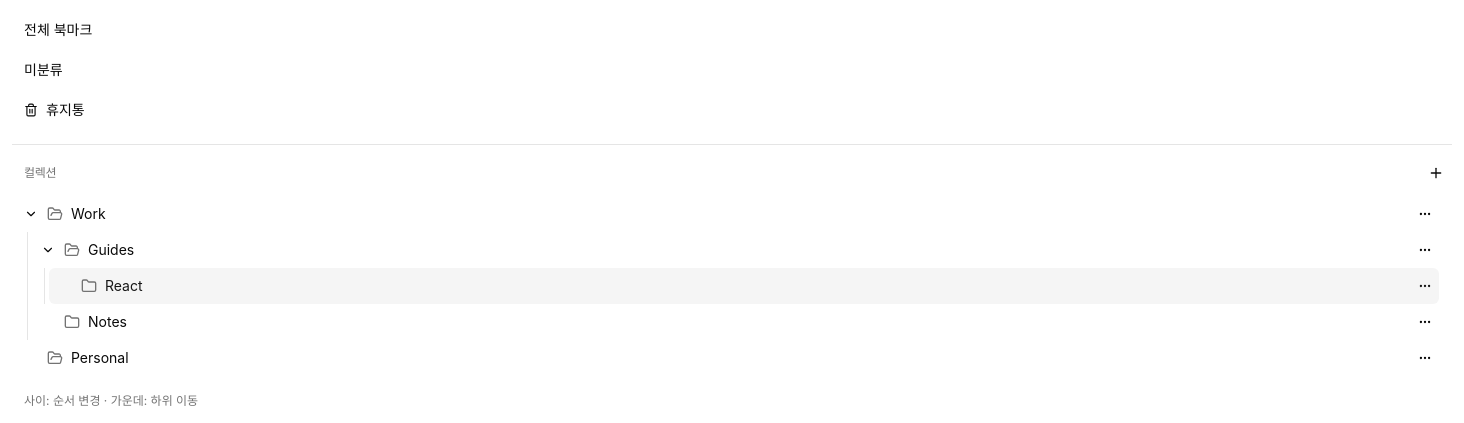
it: BookmarkCollectionTree › restores expansion, opens selected ancestors, and persists manual collapse
The width and height of the screenshot is (1464, 423).
Click the button named "Guides 하위 컬렉션 접기".
click(48, 250)  # box x1=32 y1=234 x2=64 y2=266
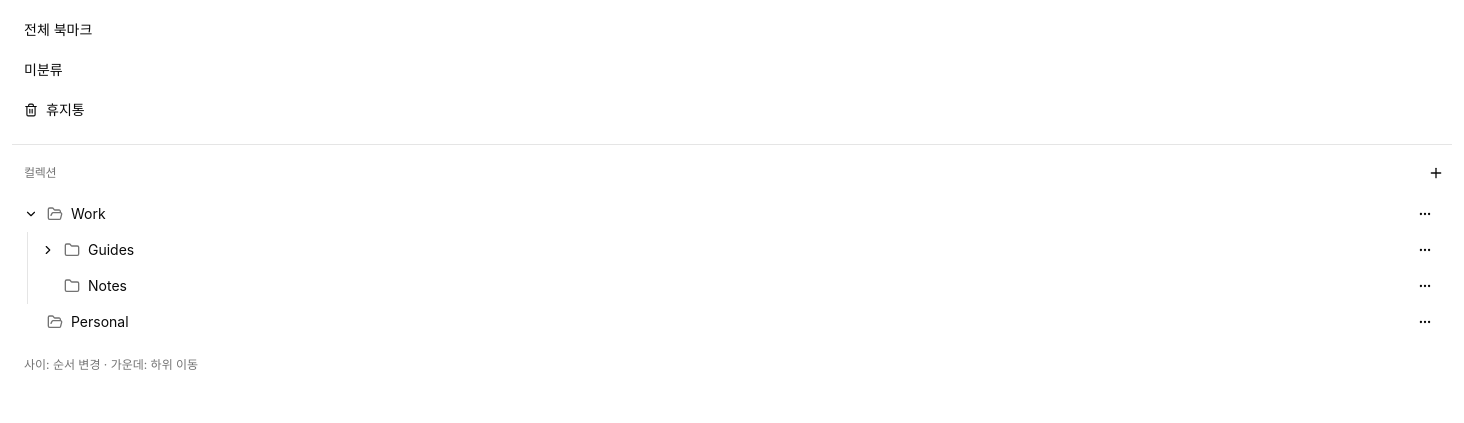
Expected: the button "React" is gone
